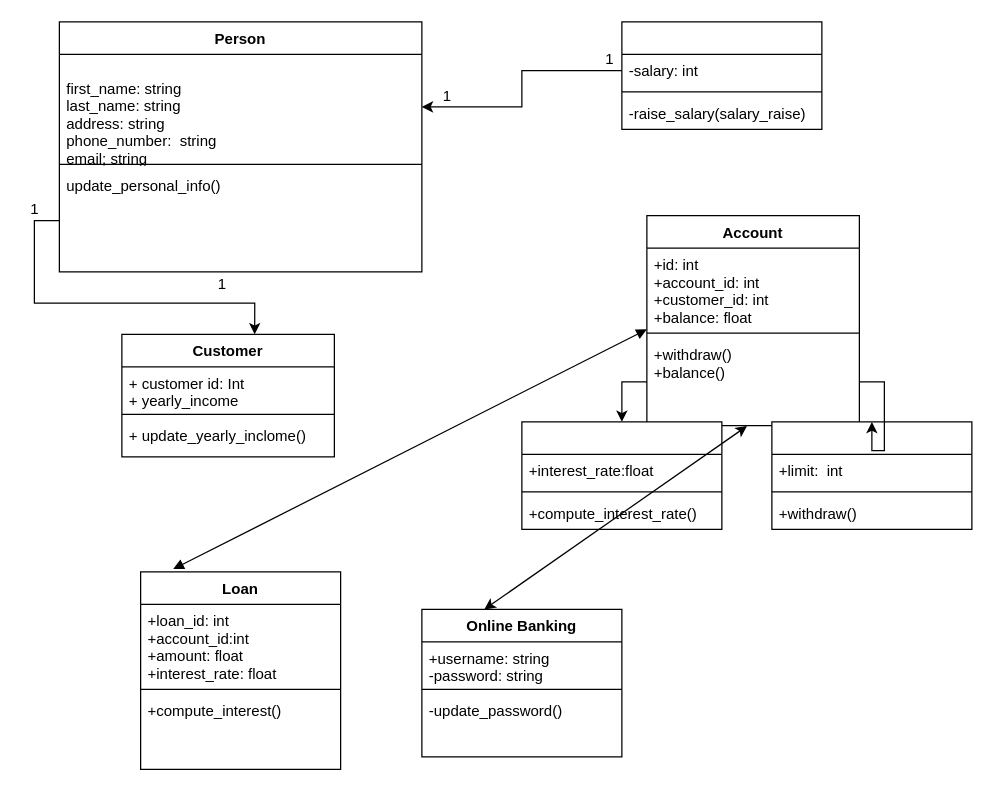
This 994x795 diagram has some shape labels left out. Here are the shapes that lost their labels. From the top down, the box of each, then its label:
(621, 21, 822, 129): Employee
(521, 421, 722, 529): SavingAccount
(771, 421, 972, 529): CheckingAccount
